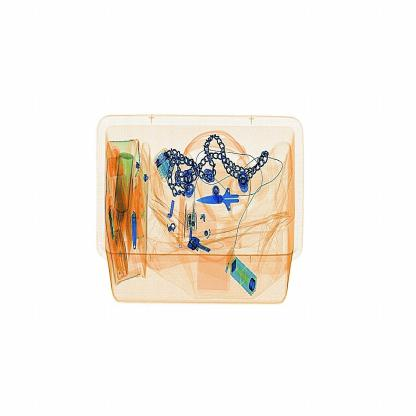gun: (196, 171, 262, 225)
